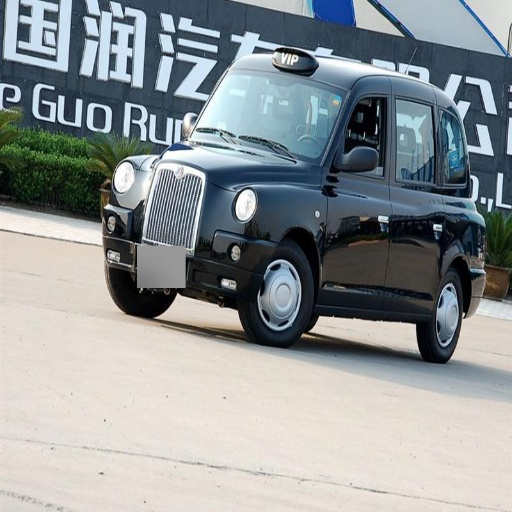front_bumper: (104, 197, 178, 285)
front_glass: (221, 87, 340, 161)
trunk: (118, 146, 256, 265)
